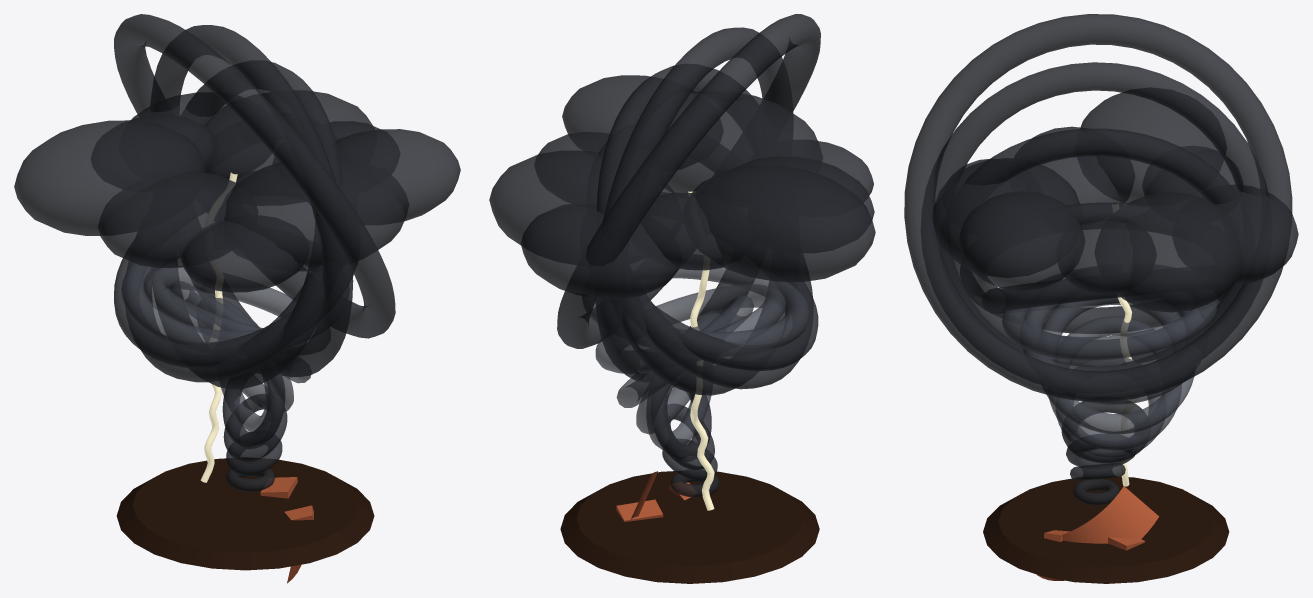
Rendered from job-whirlwind.glb.
3 views of the same model, side by side, from view 1: azimuth 30°, elevation 25°; view 2: azimuth 150°, elevation 25°; view 3: azimuth 270°, elevation 25° (orthographic). The views are drawn at different scales.
Visible parts, largest first — view 1: ash-mound-bed, vortex-ring-13, canopy-lobe-5, vortex-ring-12, canopy-lobe-2, canopy-lobe-4, vortex-ring-11, canopy-lobe-1, canopy-lobe-3, vortex-ring-9, vortex-ring-7, canopy-lobe-8 (+13 smaller); view 2: ash-mound-bed, canopy-lobe-5, vortex-ring-13, vortex-ring-12, canopy-lobe-7, canopy-lobe-2, vortex-ring-11, canopy-lobe-8, vortex-ring-9, vortex-ring-7, canopy-lobe-6, vortex-ring-8 (+14 smaller); view 3: vortex-ring-13, ash-mound-bed, vortex-ring-12, canopy-lobe-8, vortex-ring-11, canopy-lobe-1, canopy-lobe-5, vortex-ring-8, vortex-ring-5, vortex-ring-10, vortex-ring-6, canopy-lobe-7 (+13 smaller).
Part boxes in pixels (x1,y1,x2,y2): ash-mound-bed: (116,458,374,570); vortex-ring-13: (114,14,395,338); canopy-lobe-5: (14,120,206,235); vortex-ring-12: (150,25,353,376); canopy-lobe-2: (224,161,405,271); canopy-lobe-4: (98,171,237,267); vortex-ring-11: (153,62,342,389); canopy-lobe-1: (335,129,460,221); canopy-lobe-3: (181,220,299,292); vortex-ring-9: (114,258,353,368); vortex-ring-7: (142,267,312,342); canopy-lobe-8: (204,91,372,183); ash-mound-bed: (560,471,819,583); canopy-lobe-5: (692,165,875,281); vortex-ring-13: (557,14,820,348); vortex-ring-12: (595,27,793,381); canopy-lobe-7: (520,204,678,298); canopy-lobe-2: (667,93,818,192); vortex-ring-11: (596,65,784,395); canopy-lobe-8: (489,150,674,245); vortex-ring-9: (654,281,818,370); vortex-ring-7: (595,284,785,373); canopy-lobe-6: (640,192,723,270); vortex-ring-8: (590,267,809,348); vortex-ring-13: (904,14,1292,401); ash-mound-bed: (983,476,1229,583); vortex-ring-12: (933,62,1266,371); canopy-lobe-8: (1116,192,1242,312); vortex-ring-11: (954,128,1238,364); canopy-lobe-1: (958,191,1081,290); canopy-lobe-5: (1080,92,1218,202); vortex-ring-8: (1001,278,1218,360); vortex-ring-5: (1049,316,1181,450); vortex-ring-10: (960,202,1189,333); vortex-ring-6: (1042,297,1193,434); canopy-lobe-7: (1201,185,1298,284).
Size of the model in its own units: 0.6143 by 0.8861 by 0.6037.
